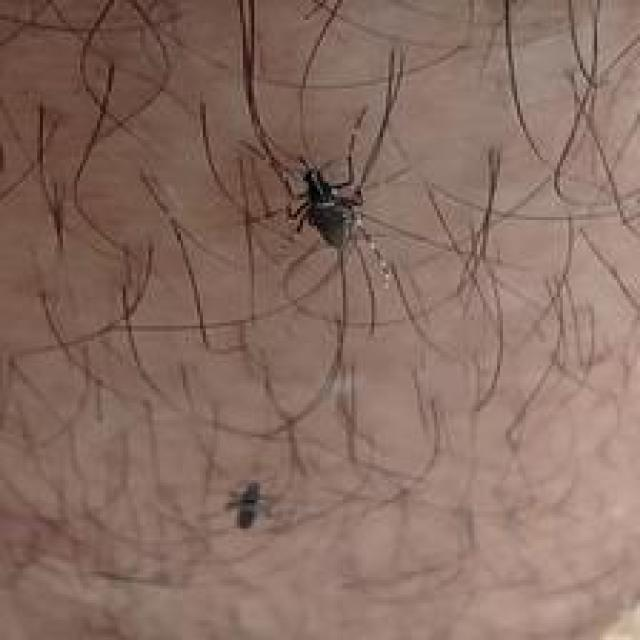Aedes albopictus: (223, 480, 271, 529)
